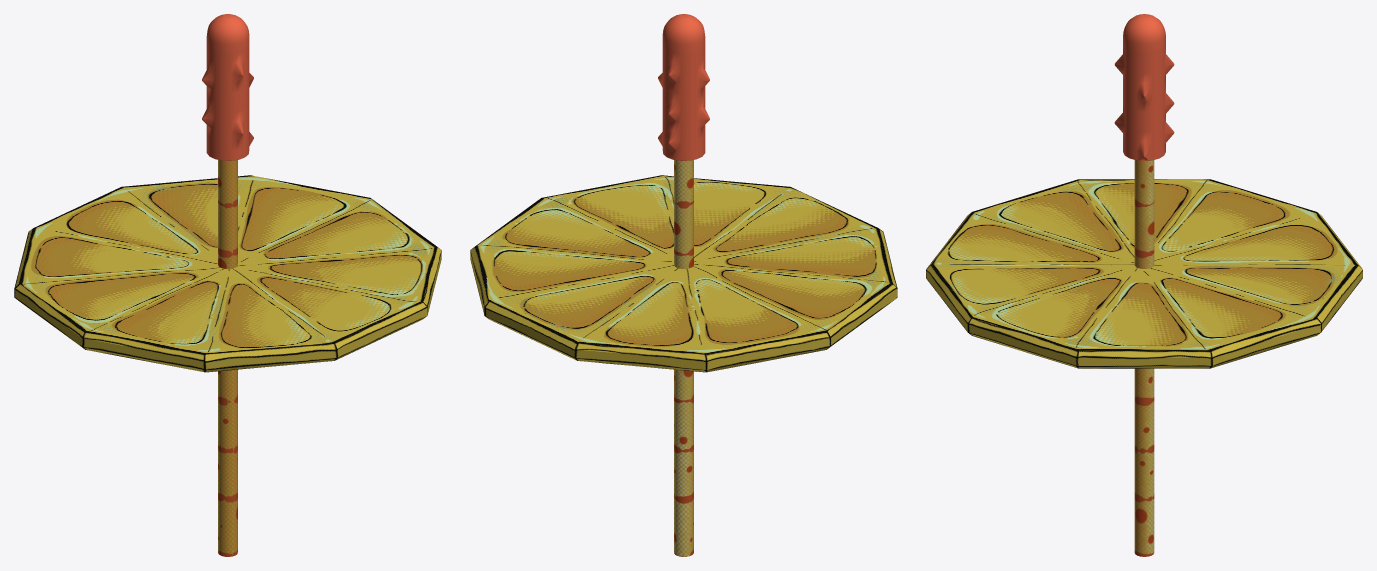
The model's file is Leaf_Platform_Yellow_22m.fbx.
3 renders of one model, left to right at view 1: azimuth 30°, elevation 25°; view 2: azimuth 150°, elevation 25°; view 3: azimuth 270°, elevation 25°, orthographic.
Visible parts, largest first — view 1: Platform_Yellow22m, LightTop.001, Pole.001; view 2: Platform_Yellow22m, LightTop.001, Pole.001; view 3: Platform_Yellow22m, LightTop.001, Pole.001.
Part boxes in pixels (x1,y1,x2,y2): Platform_Yellow22m: (14, 175, 441, 372); LightTop.001: (202, 14, 253, 160); Pole.001: (218, 160, 237, 556); Platform_Yellow22m: (470, 175, 897, 372); LightTop.001: (658, 14, 709, 160); Pole.001: (674, 160, 693, 556); Platform_Yellow22m: (926, 179, 1362, 368); LightTop.001: (1114, 14, 1174, 160); Pole.001: (1134, 160, 1154, 556).
Bounding box in the file's own units: 2092 × 2200 × 2982.
